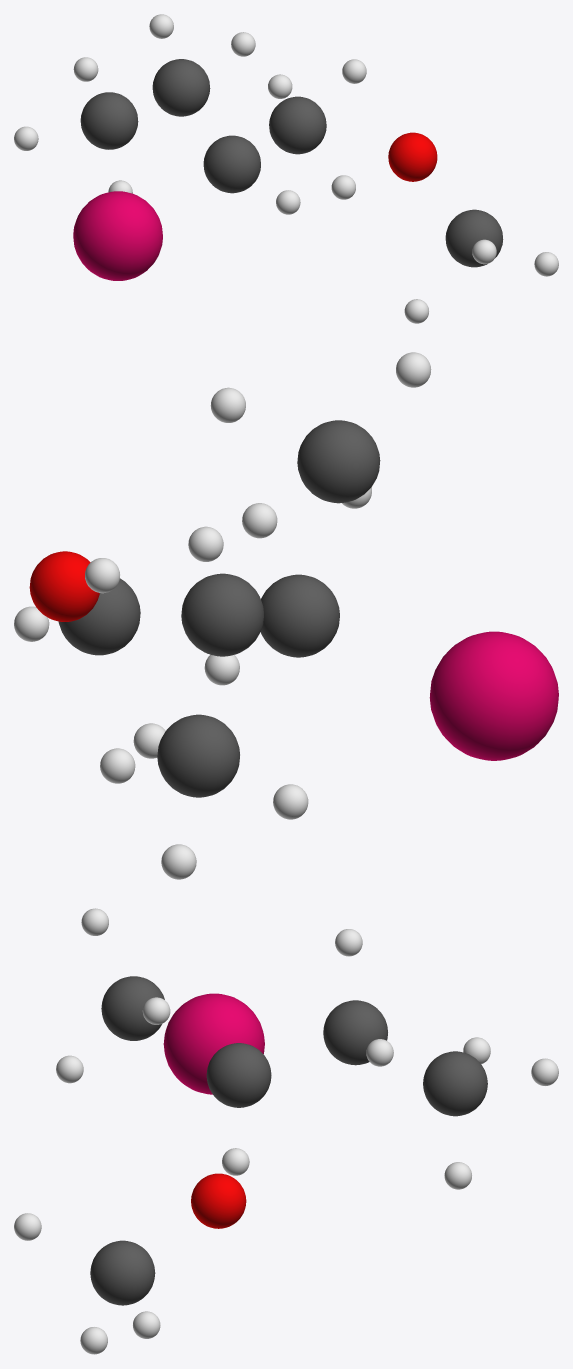
Rendered from SN2_2-Bromobutane.fbx.
The picture shows the model from 3 angles, top to bottom: view 1: azimuth 30°, elevation 25°; view 2: azimuth 150°, elevation 25°; view 3: azimuth 270°, elevation 25°; orthographic projection. The views are drawn at different scales.
Parts seen in each view (by area): view 1: Br07, C01, C13, C05, C16, C09, O08, H11, H17, H10, H04, H03 (+6 smaller); view 2: Br07, C16, C13, C01, C05, C09, O08, H18, H14, H11, H17, H03 (+6 smaller); view 3: Br07, C16, C09, C05, C13, C01, O08, H04, H14, H03, H06, H17 (+6 smaller).
Boxes of the visible parts, x1,y1,x2,y2 form: Br07: (73,191,162,280); C01: (269,96,326,154); C13: (152,59,210,116); C05: (203,135,260,193); C16: (80,92,138,149); C09: (445,209,503,267); O08: (388,132,437,181); H11: (472,239,496,264); H17: (73,57,98,81); H10: (534,252,558,276); H04: (331,175,355,199); H03: (342,59,366,83); Br07: (429,631,558,760); C16: (157,714,239,797); C13: (181,573,263,656); C01: (297,420,380,503); C05: (260,574,339,657); C09: (58,578,140,655); O08: (29,551,99,621); H18: (161,844,196,879); H14: (242,503,277,538); H11: (188,526,223,561); H17: (100,748,135,783); H03: (210,387,245,422); Br07: (163,993,264,1094); C16: (423,1051,487,1116); C09: (90,1240,155,1305); C05: (206,1043,271,1107); C13: (323,1000,387,1065); C01: (101,976,164,1040); O08: (191,1173,246,1228); H04: (56,1055,83,1083); H14: (335,929,362,956); H03: (142,997,170,1024); H06: (222,1148,249,1175); H17: (531,1058,558,1085).
Size of the model in its own units: 637 by 434 by 629.
